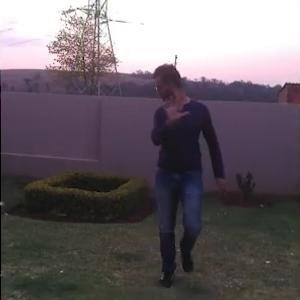follow_hand: (159, 90, 192, 123)
